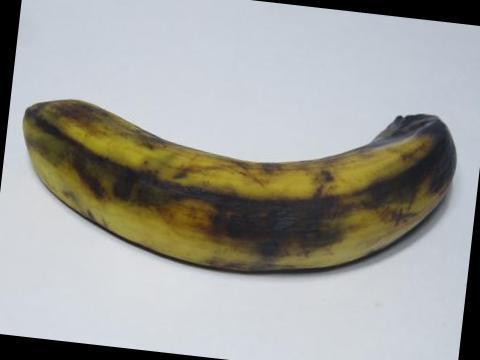overripe: (3, 80, 471, 302)
